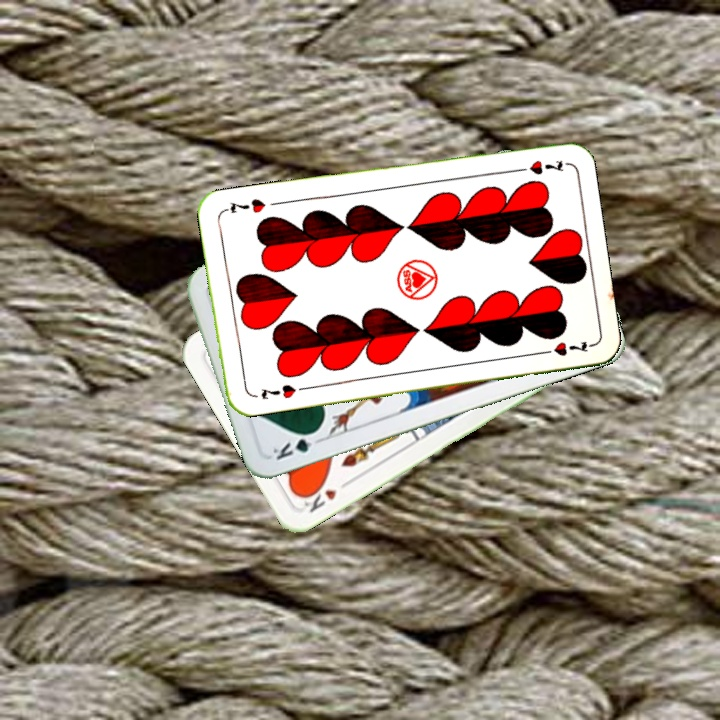GK: (268, 426, 325, 463)
H7: (509, 156, 566, 177), (257, 380, 299, 402)
HK: (297, 475, 354, 516)
